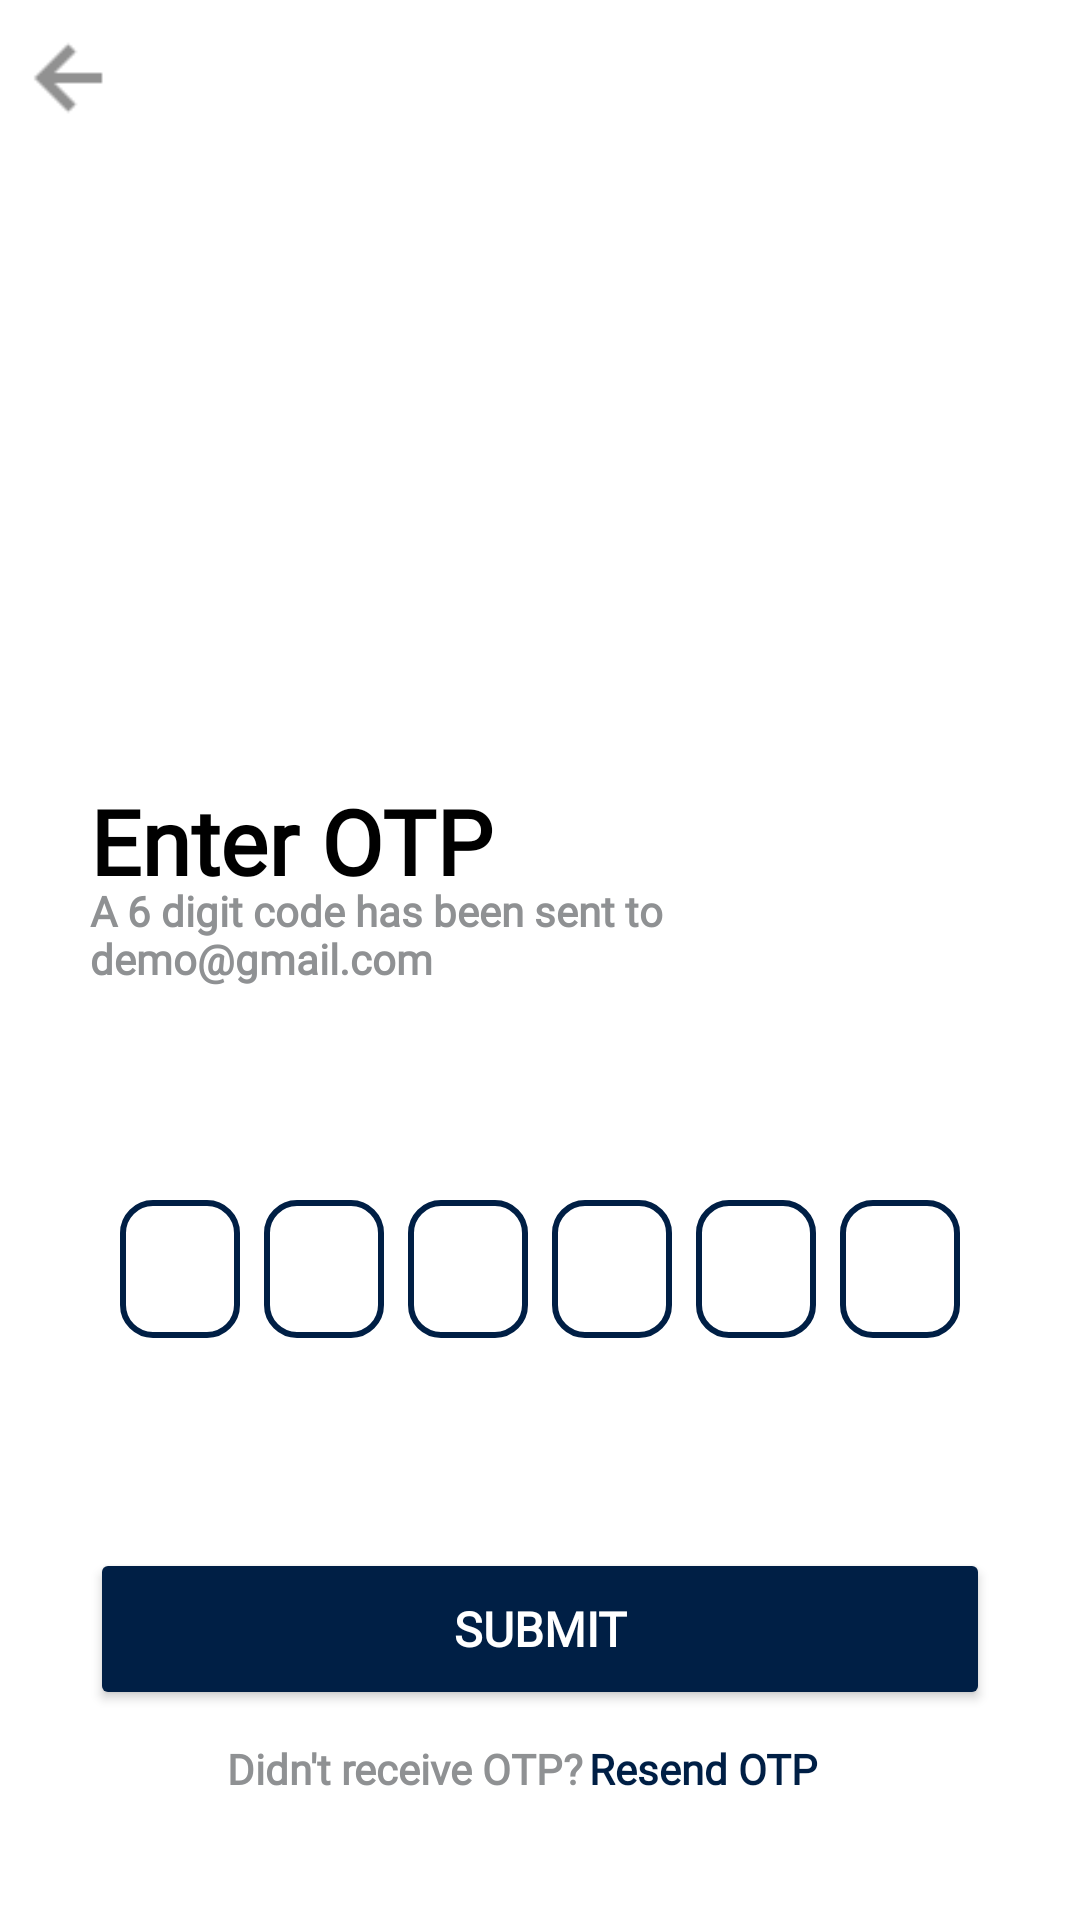

Icon click points for this 1080×1920 phone screenshot, format [x,y]:
back: [68,78]
